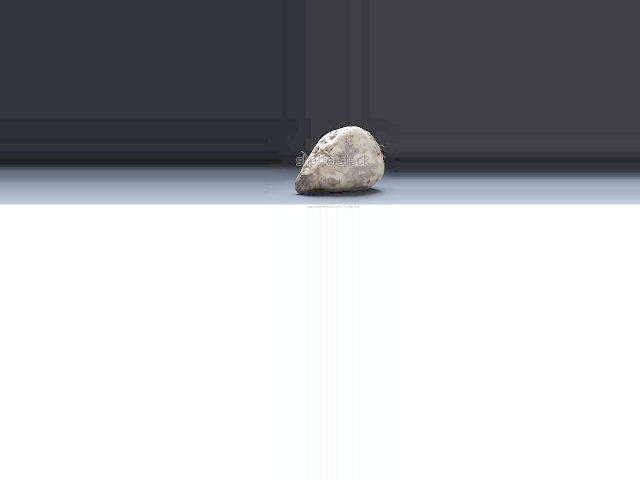beet: (296, 127, 385, 193)
